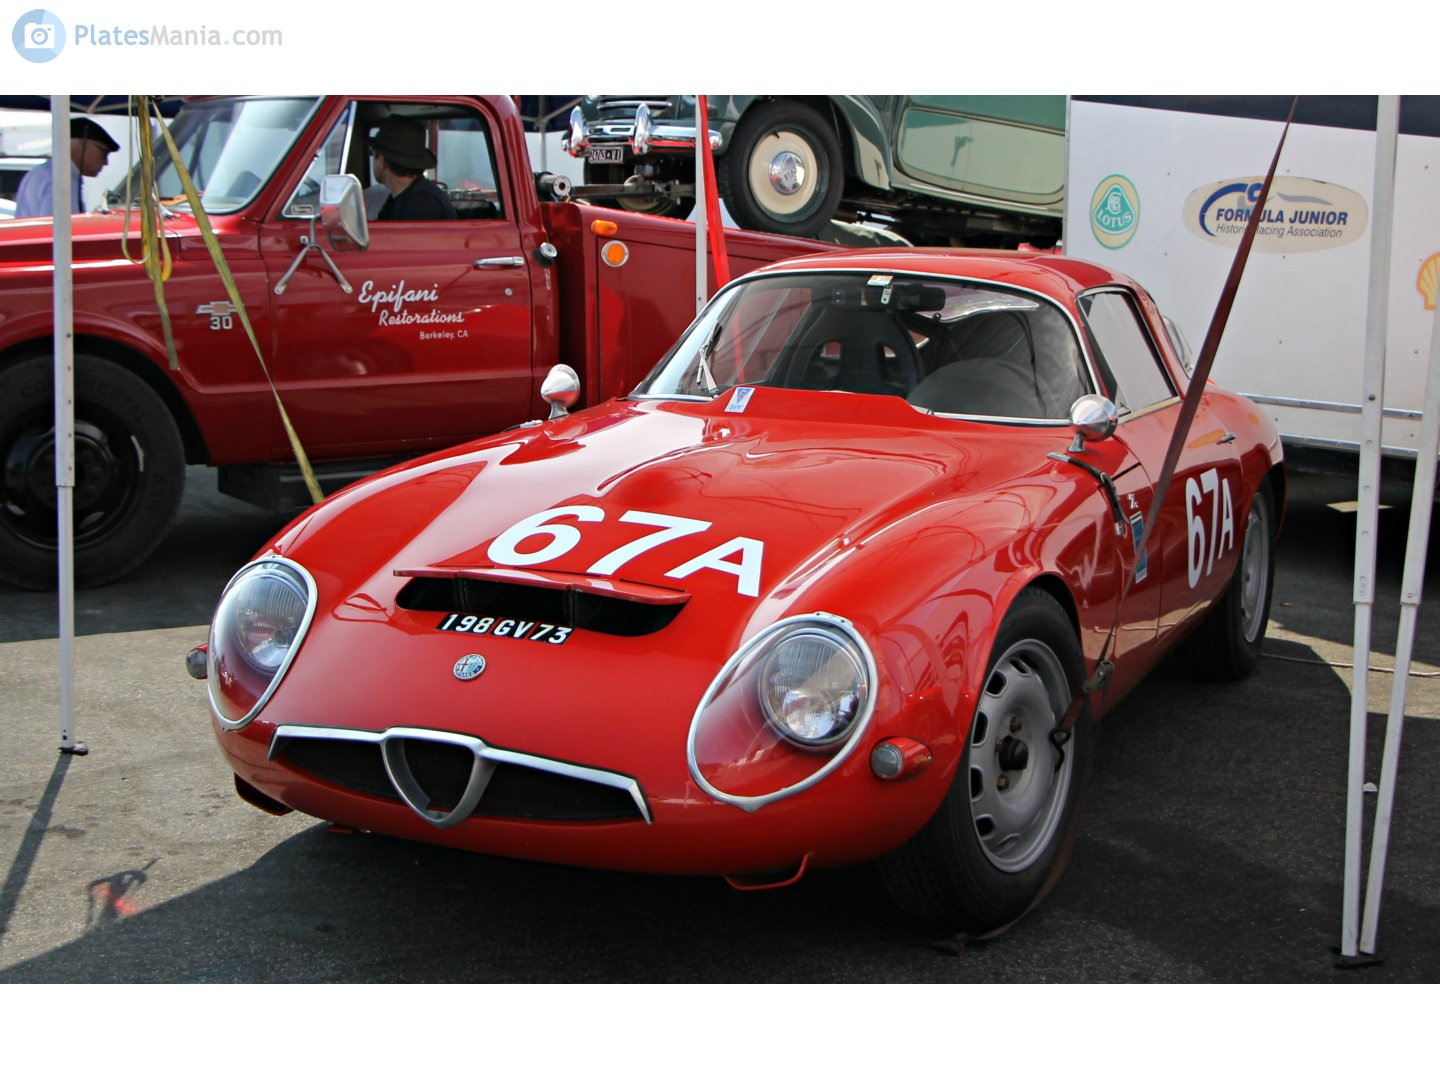licence plate: (434, 605, 574, 648)
